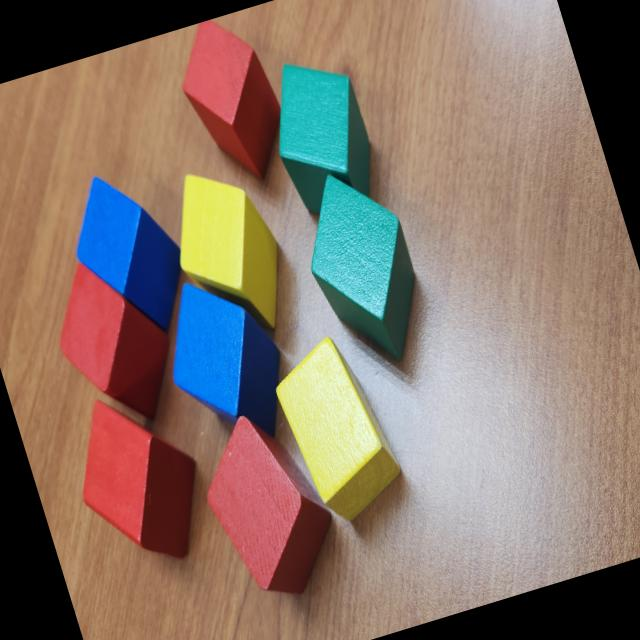blue: (146, 260, 304, 461), (56, 156, 204, 352)
green: (285, 157, 440, 379), (252, 45, 387, 222)
red: (186, 397, 352, 612), (56, 375, 224, 585), (36, 241, 190, 440), (166, 8, 300, 196)
yellow: (264, 326, 412, 532), (154, 152, 302, 352)
